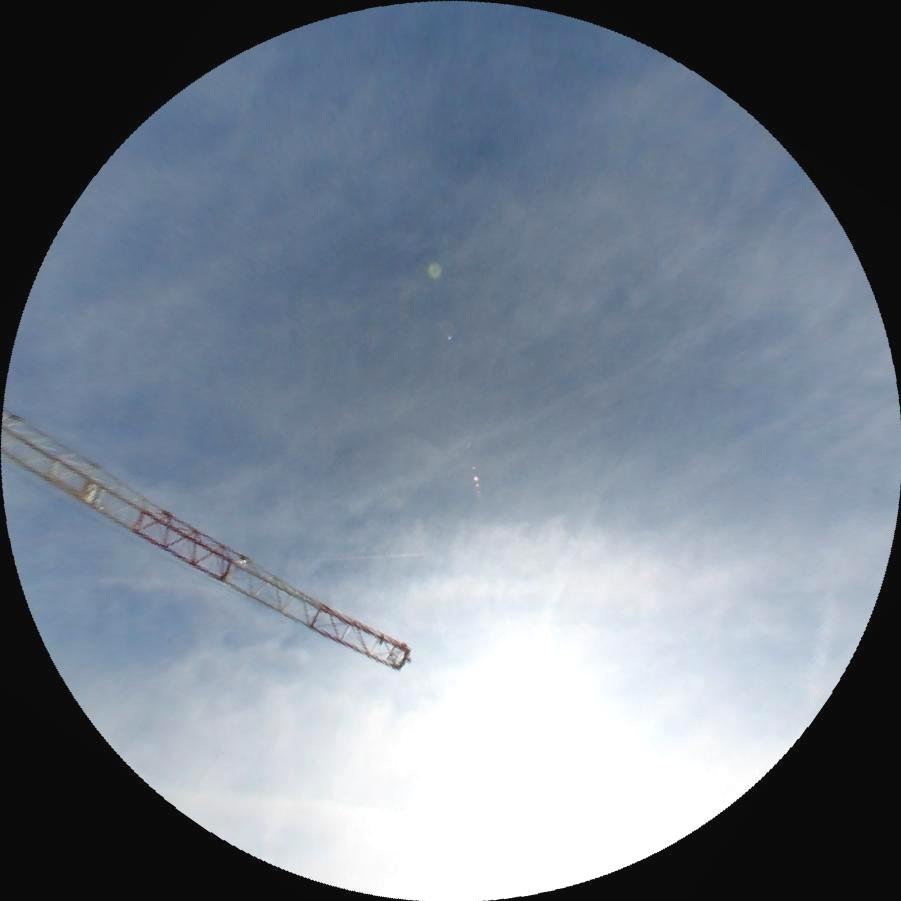contrail young: (284, 552, 424, 562)
